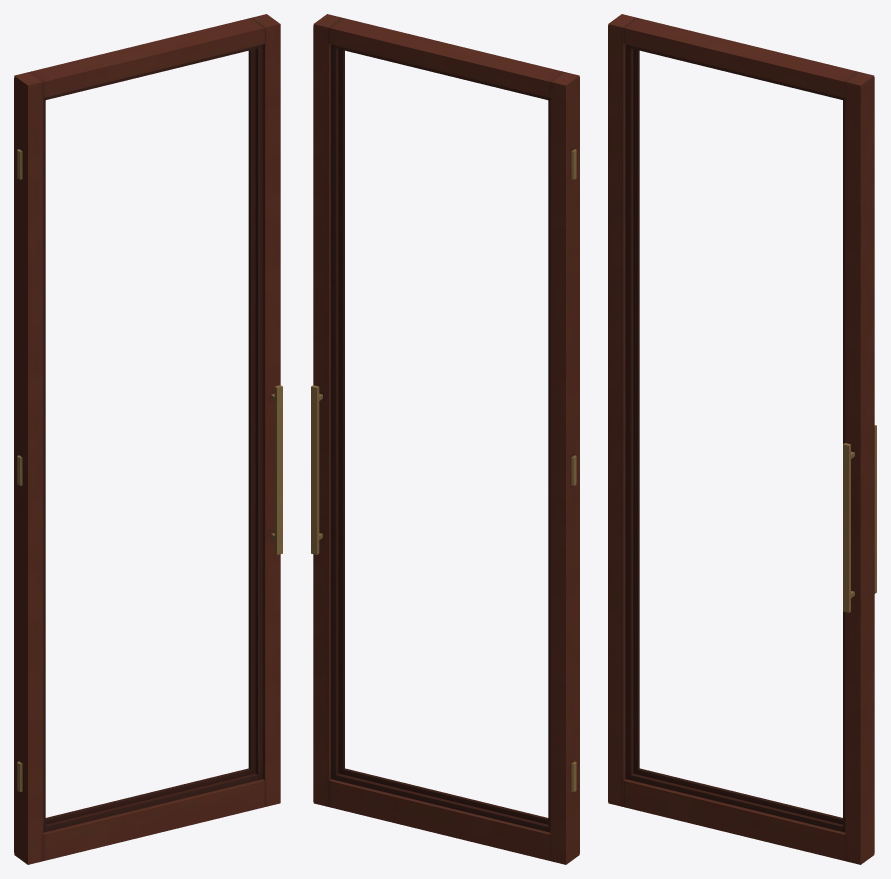
File: suite_leaf.glb
The picture shows the model from 3 angles, left to right: view 1: azimuth 30°, elevation 25°; view 2: azimuth 150°, elevation 25°; view 3: azimuth 330°, elevation 25°; orthographic projection.
Visible parts, largest first — view 1: suite_leaf; view 2: suite_leaf; view 3: suite_leaf.
Part boxes in pixels (x1,y1,x2,y2): suite_leaf: [14, 14, 282, 864]; suite_leaf: [311, 14, 579, 864]; suite_leaf: [608, 14, 876, 864].
Size of the model in its own units: 0.9619 by 2.8 by 0.1819.
Materials: 1 (1 with a texture image).
